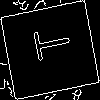T: (25, 25, 72, 64)
